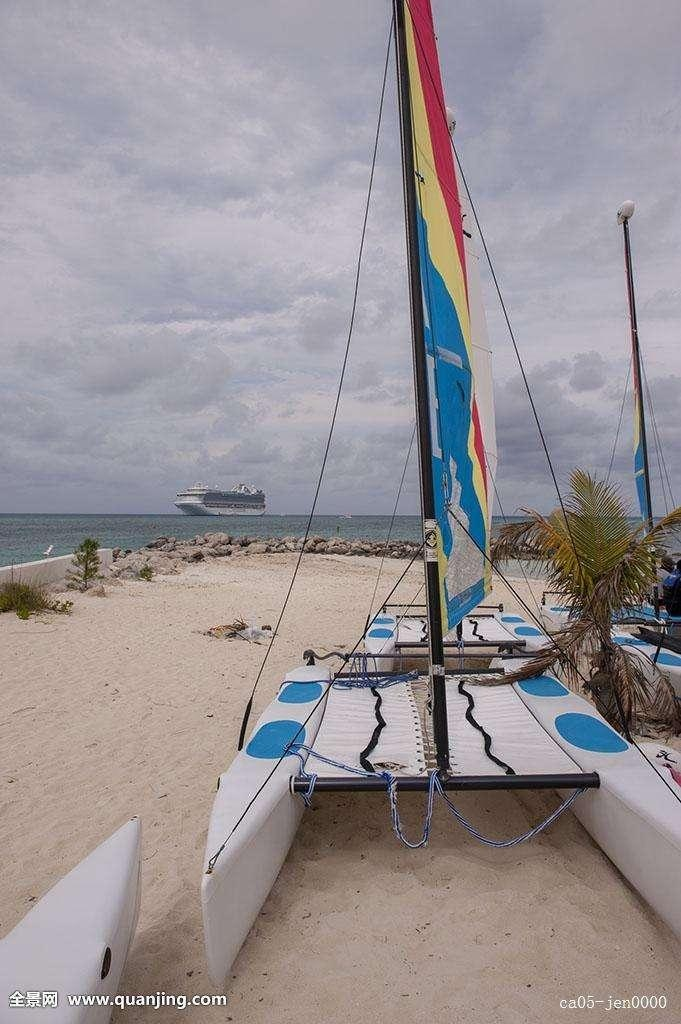youlun: (171, 475, 273, 522)
